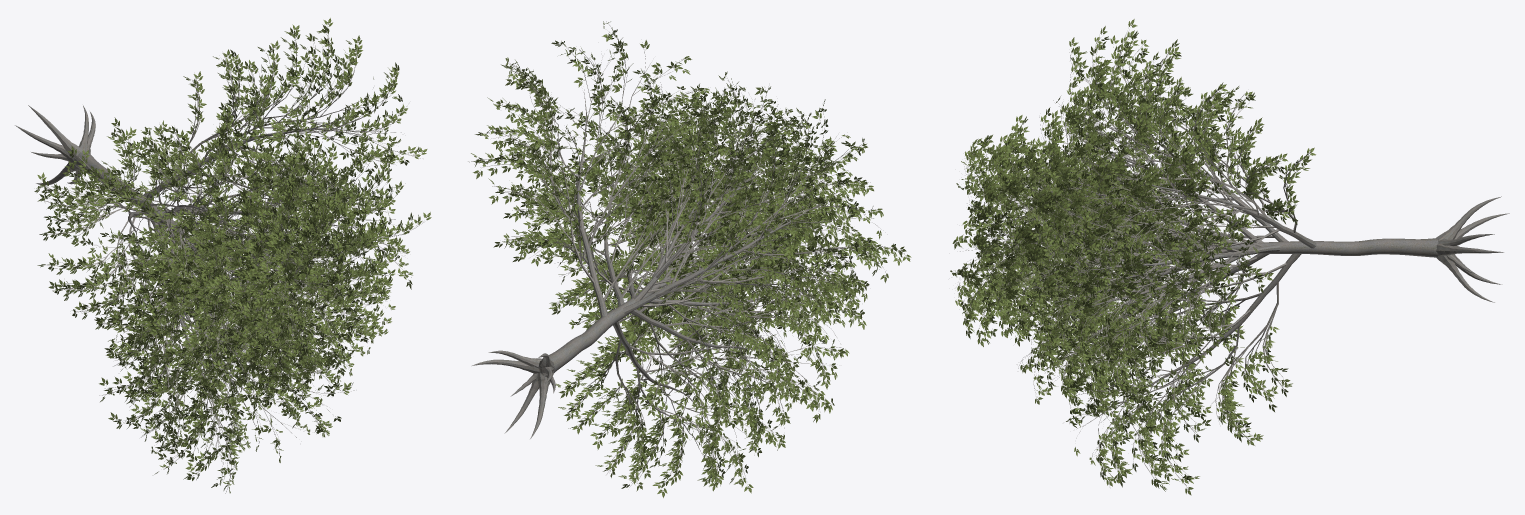
3 renders of one model, left to right at view 1: azimuth 30°, elevation 25°; view 2: azimuth 150°, elevation 25°; view 3: azimuth 270°, elevation 25°, orthographic. The views are drawn at different scales.
Visible parts, largest first — view 1: EU06m; view 2: EU06m; view 3: EU06m.
Boxes of the visible parts, box(x1,y1,x2,y2) form: EU06m: box(15, 18, 431, 493); EU06m: box(468, 21, 911, 497); EU06m: box(950, 19, 1509, 495).
Bounding box in the file's own units: 87.65 × 94.55 × 105.
Materials: 3 (3 with a texture image).
